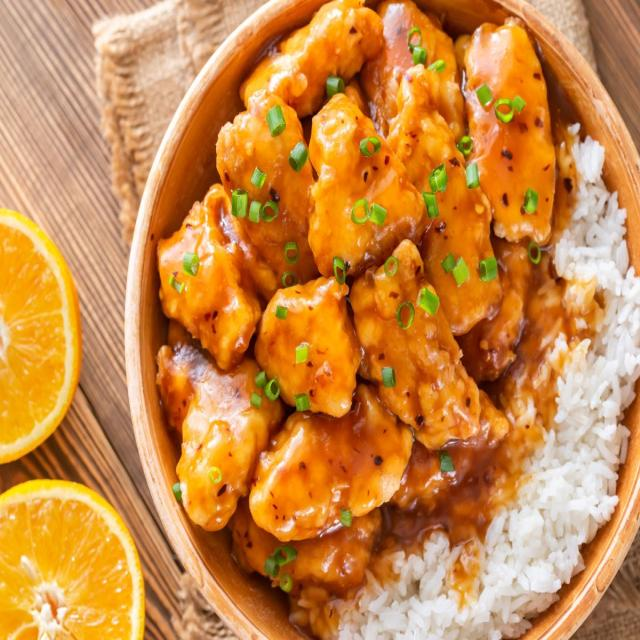pollo: (293, 90, 426, 277)
